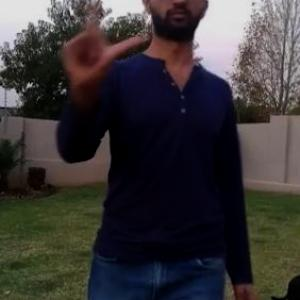land_hand: (50, 0, 143, 98)
